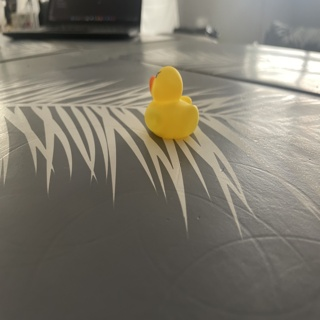duck_regular: (145, 67, 201, 141)
